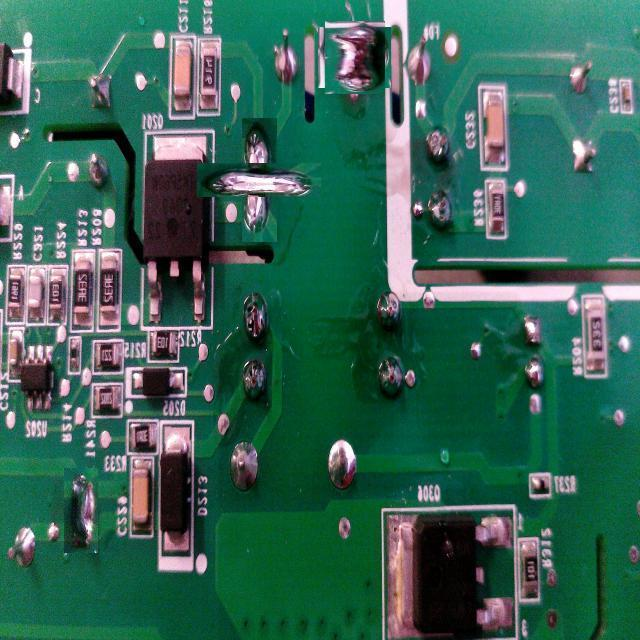Short_circuit: (220, 140, 299, 220), (321, 24, 388, 91), (64, 468, 98, 553)
